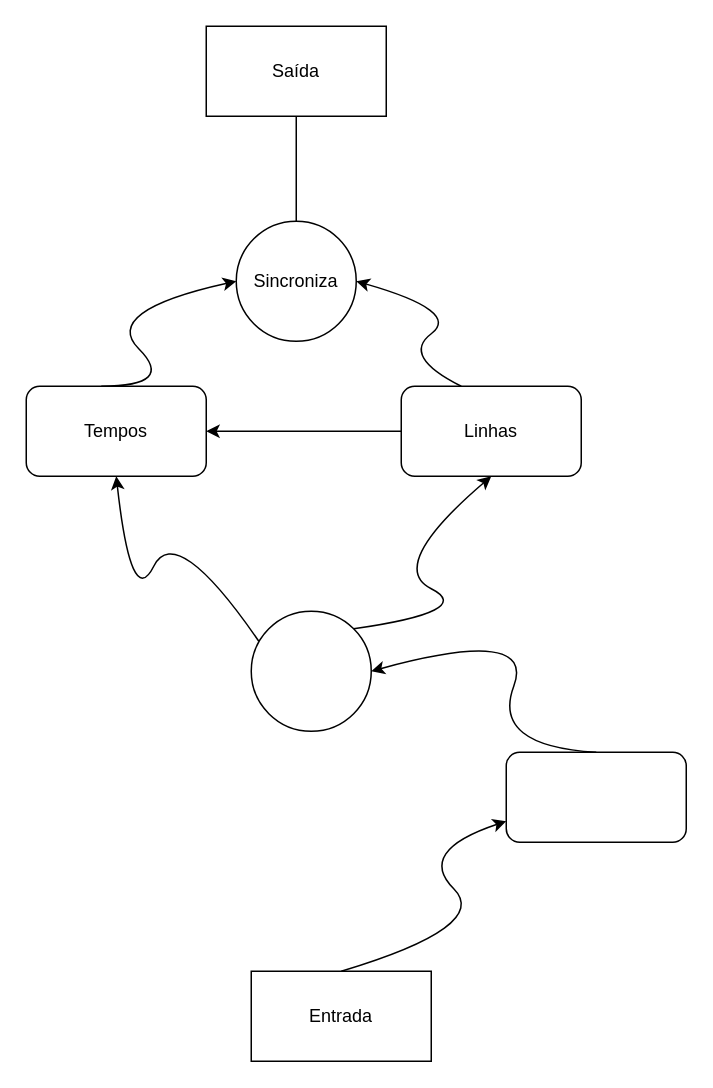
This 713x1088 diagram has some shape labels left out. Here are the shapes that lost their labels. From the top down, the centre of each, then its label:
the point at 310,670: Formatar
the point at 595,796: Conteúdo
